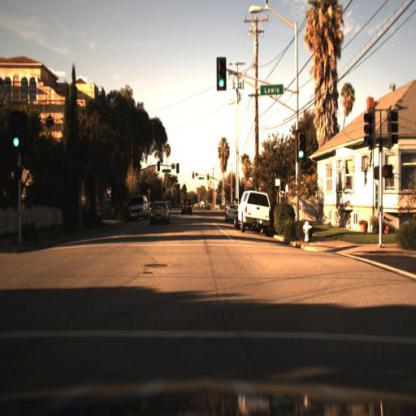car: (235, 193, 274, 233), (177, 197, 198, 223), (130, 196, 148, 224), (151, 201, 168, 224)
trafficLight-Green: (216, 56, 226, 91), (217, 74, 229, 100), (296, 131, 306, 162)
